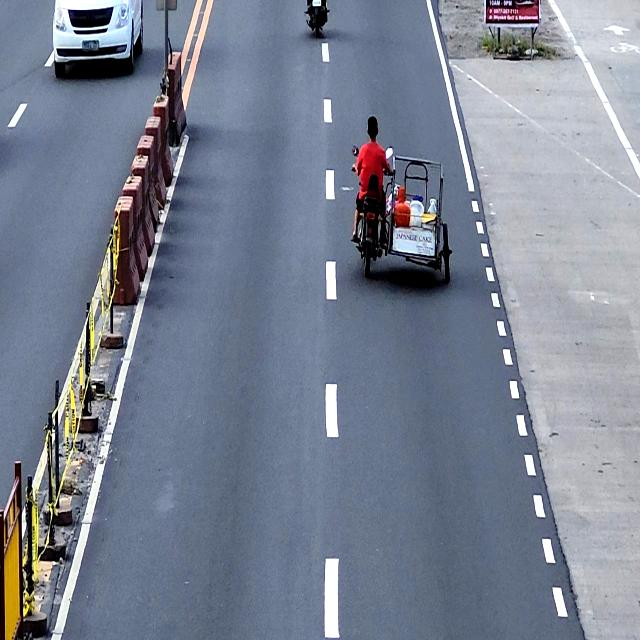Car: (52, 0, 144, 78)
License-Plate: (81, 38, 100, 53), (312, 0, 321, 6)
Motorcycle: (304, 0, 329, 37)
Tricycle: (351, 144, 452, 283)
